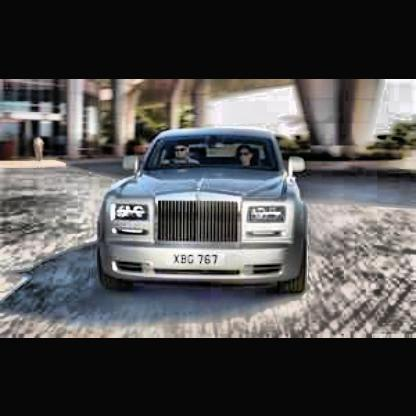Rolls-Royce Phantom Sedan 2012: (94, 121, 315, 302)
